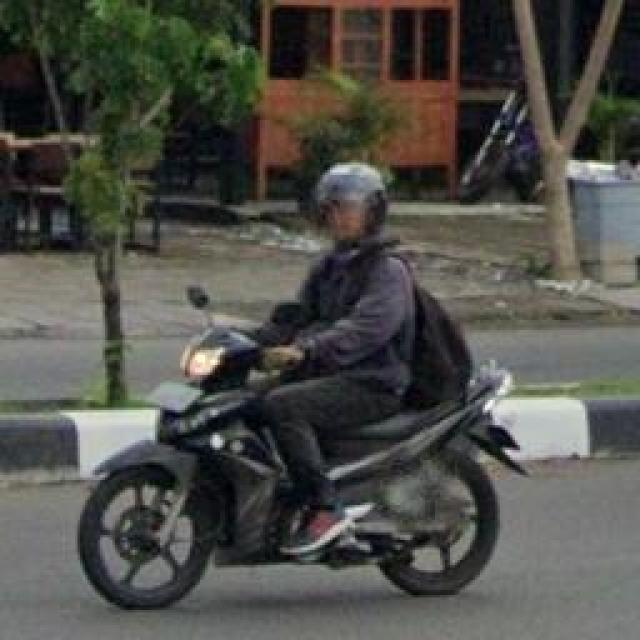motorbike: (63, 175, 532, 613)
